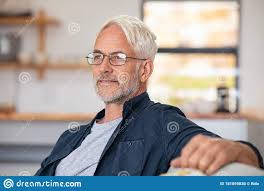Glasses: (80, 50, 141, 68)
